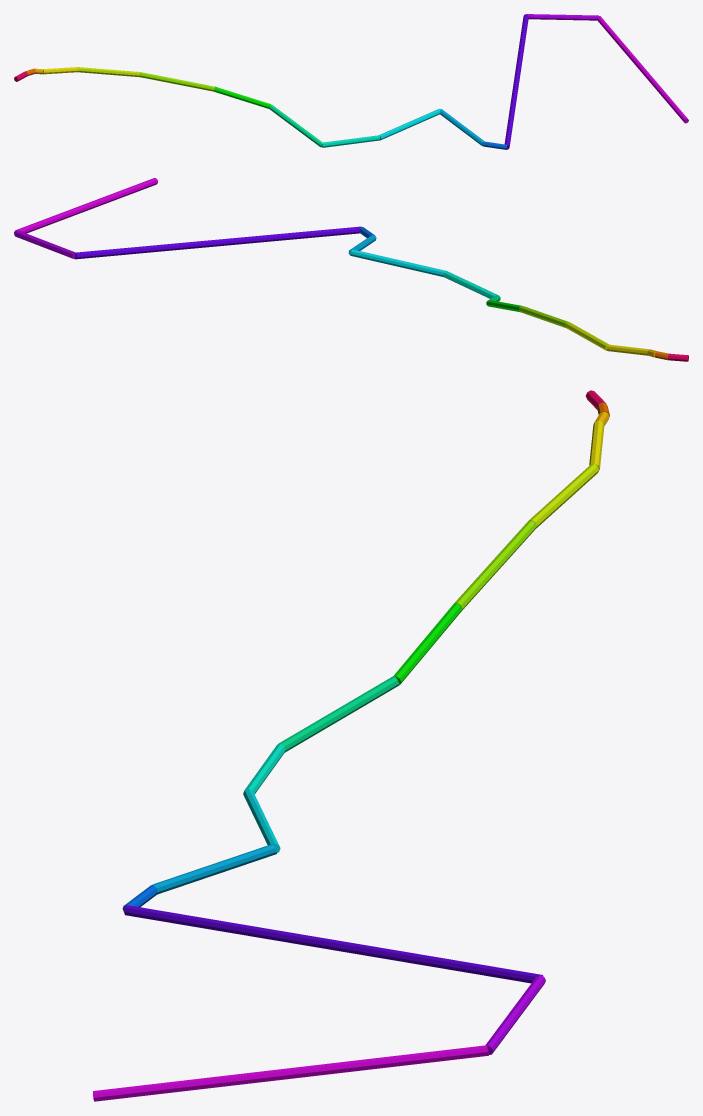
Rendered from scene_preview.glb.
3 renders of one model, top to bottom at view 1: azimuth 30°, elevation 25°; view 2: azimuth 150°, elevation 25°; view 3: azimuth 270°, elevation 25°, orthographic. The views are drawn at different scales.
Visible parts, largest first — view 1: world; view 2: world; view 3: world.
Boxes of the visible parts, x1=… form: world: x1=14, y1=14, x2=688, y2=149; world: x1=14, y1=178, x2=688, y2=361; world: x1=93, y1=390, x2=609, y2=1101.
Bounding box in the file's own units: 0.8956 × 0.1366 × 0.3581.
